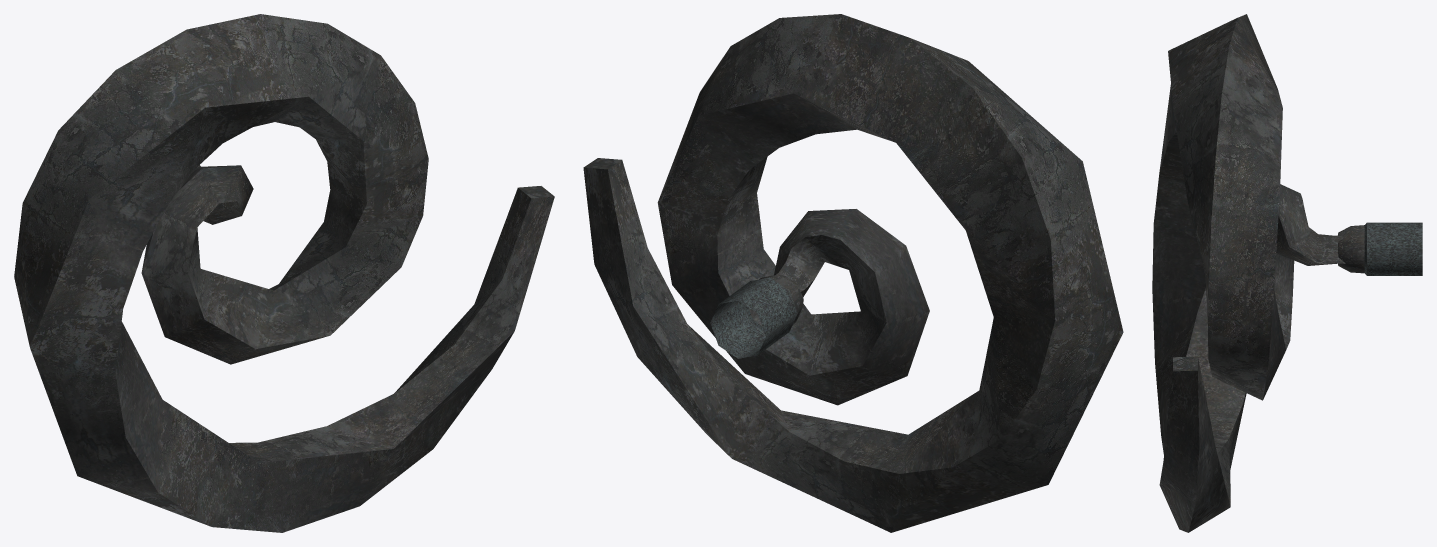
File: p6_la_sculpture_fountain_01_LOD3.obj
3 views of the same model, side by side, from view 1: azimuth 30°, elevation 25°; view 2: azimuth 150°, elevation 25°; view 3: azimuth 270°, elevation 25° (orthographic). The views are drawn at different scales.
Parts seen in each view (by area): view 1: metal_wall_brushed02; view 2: metal_wall_brushed02, stone_floor_granite_tile01_blue; view 3: metal_wall_brushed02, stone_floor_granite_tile01_blue.
Part boxes in pixels (x1=…): metal_wall_brushed02: x1=14, y1=14, x2=554, y2=532; metal_wall_brushed02: x1=583, y1=14, x2=1123, y2=532; stone_floor_granite_tile01_blue: x1=710, y1=277, x2=797, y2=358; metal_wall_brushed02: x1=1152, y1=14, x2=1364, y2=532; stone_floor_granite_tile01_blue: x1=1364, y1=222, x2=1422, y2=275.
Size of the model in its own units: 485 by 444 by 240.
